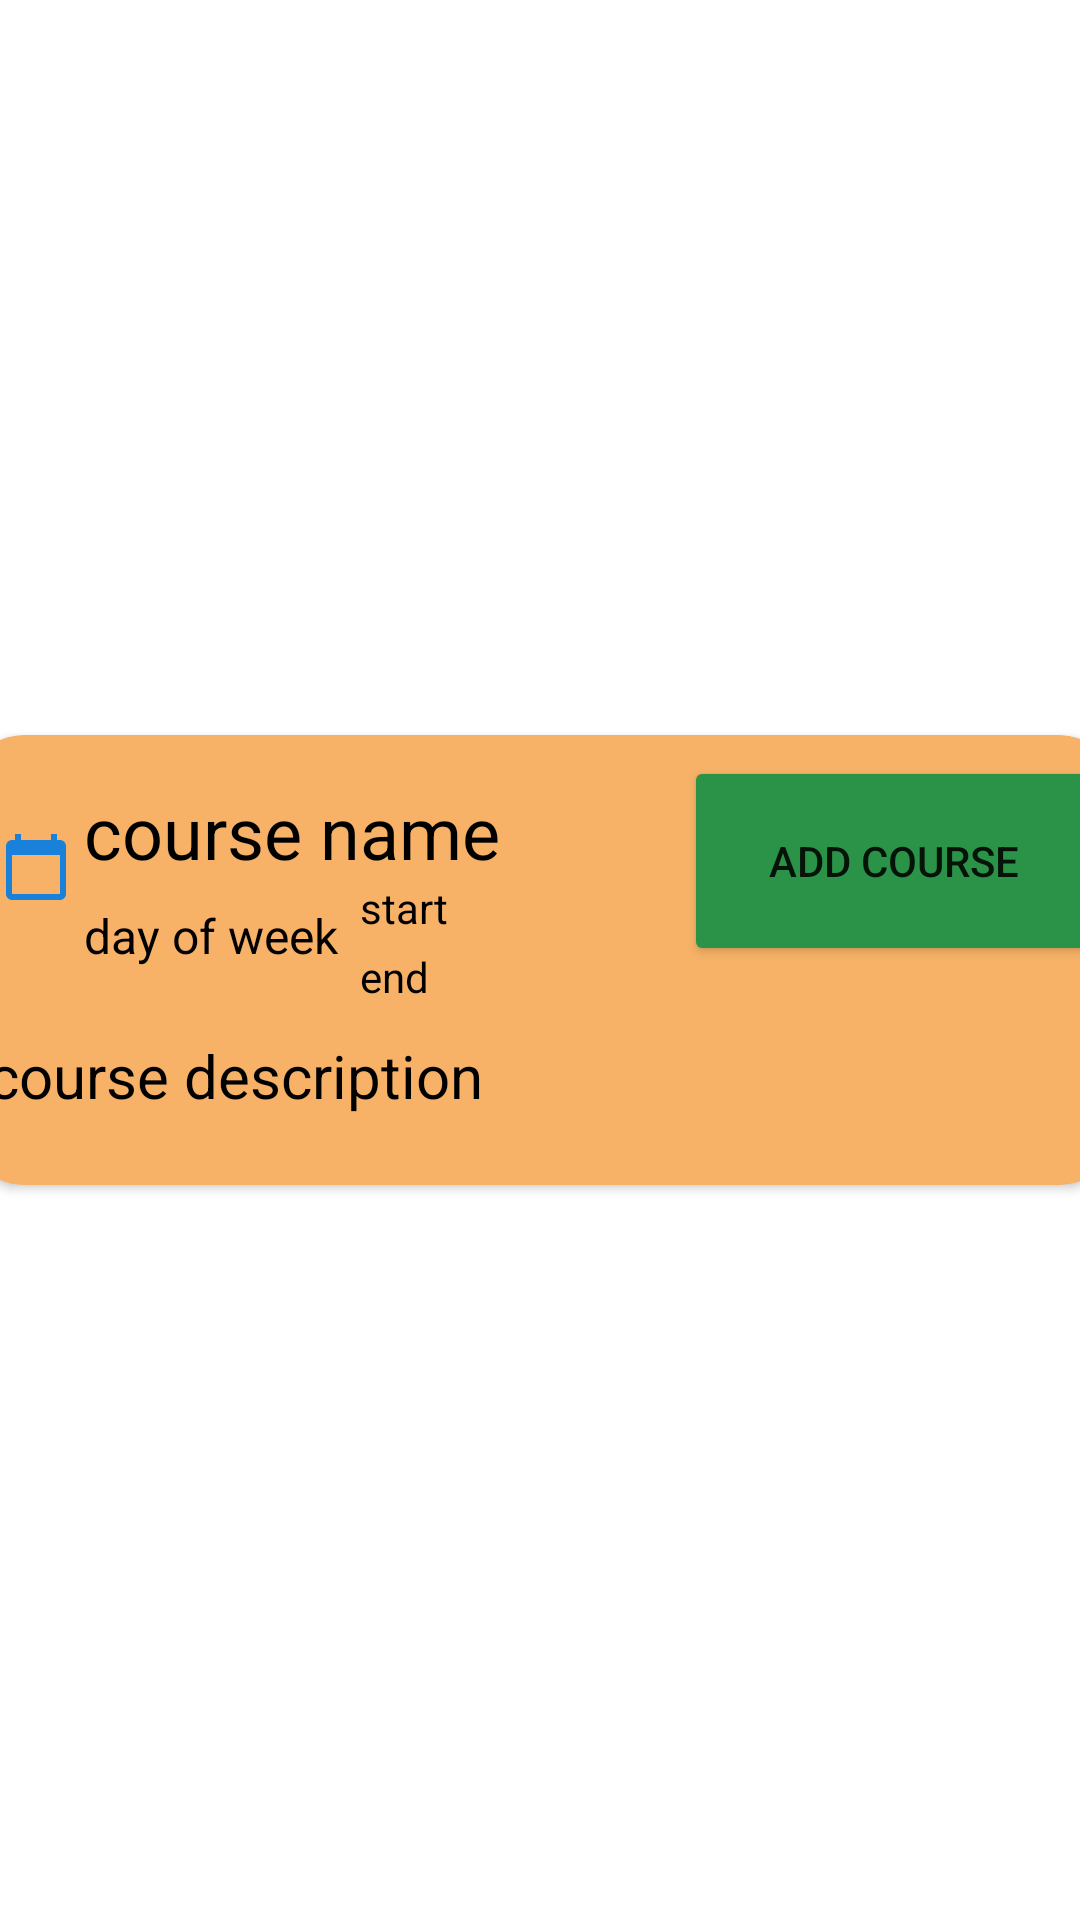

Point at icon controls on the screen. Image size 1080 × 1920, points as [x,y].
calendar today: [36,867]
